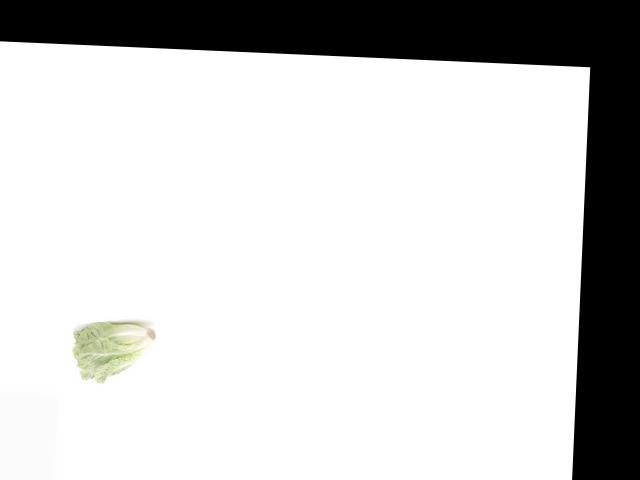lettuce: (71, 318, 160, 386)
